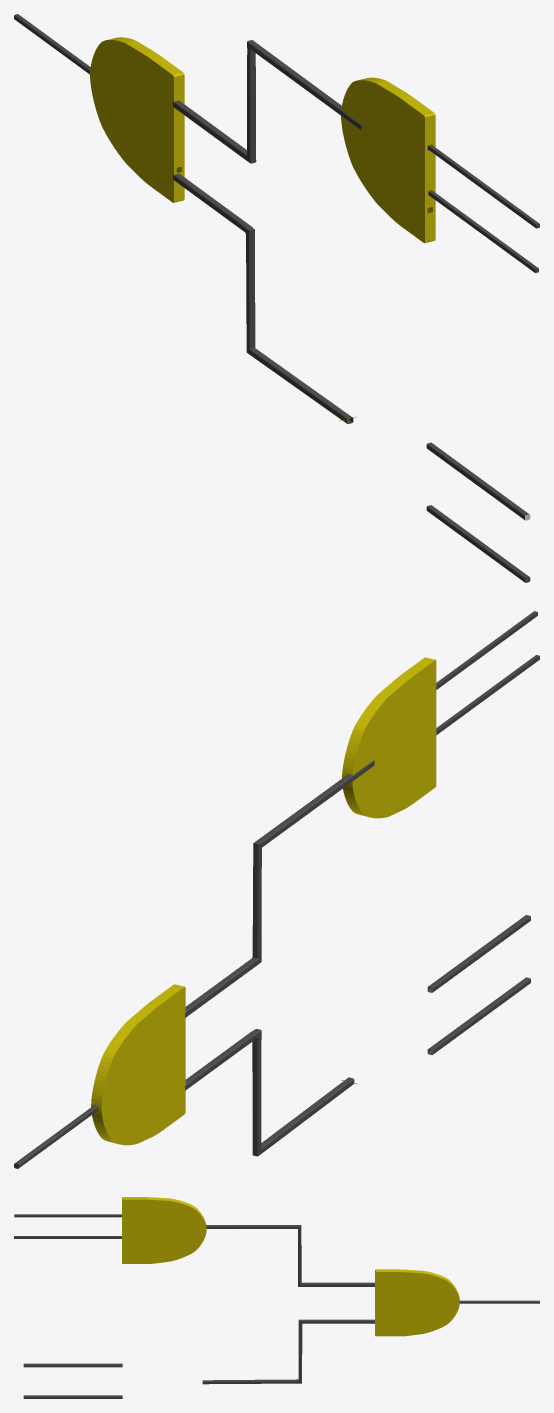
File: combinaçãoPortasDesafio2 (1).fbx
3 renders of one model, top to bottom at view 1: azimuth 30°, elevation 25°; view 2: azimuth 150°, elevation 25°; view 3: azimuth 270°, elevation 25°, orthographic. The views are drawn at different scales.
Visible parts, largest first — view 1: PortaE.001, PortaE, Plano.001, PortaESozinha, PortaOuSozinha; view 2: PortaE, PortaE.001, Plano.001, PortaESozinha, PortaOuSozinha, Plano.003; view 3: PortaE, PortaE.001, Plano.001, PortaESozinha, PortaOuSozinha, Plano.003.
Boxes of the visible parts, x1,y1,x2,y2 form: PortaE.001: (341,77,435,243); PortaE: (90,37,184,202); Plano.001: (173,40,361,423); PortaESozinha: (426,442,530,582); PortaOuSozinha: (427,144,539,272); PortaE: (91,984,185,1145); PortaE.001: (342,657,436,818); Plano.001: (185,760,374,1156); PortaESozinha: (427,915,530,1054); PortaOuSozinha: (436,611,539,734); Plano.003: (14,1105,98,1168); PortaE: (375,1269,459,1336); PortaE.001: (122,1197,206,1263); Plano.001: (202,1225,374,1384); PortaESozinha: (23,1363,122,1398); PortaOuSozinha: (14,1214,121,1238); Plano.003: (459,1300,539,1303).
Bounding box in the file's own units: 12.77 × 287 × 684.
